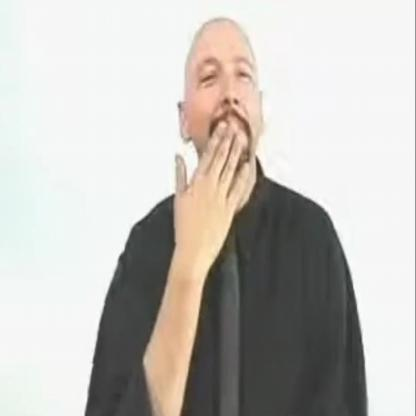ThankYou: (90, 11, 361, 416)
